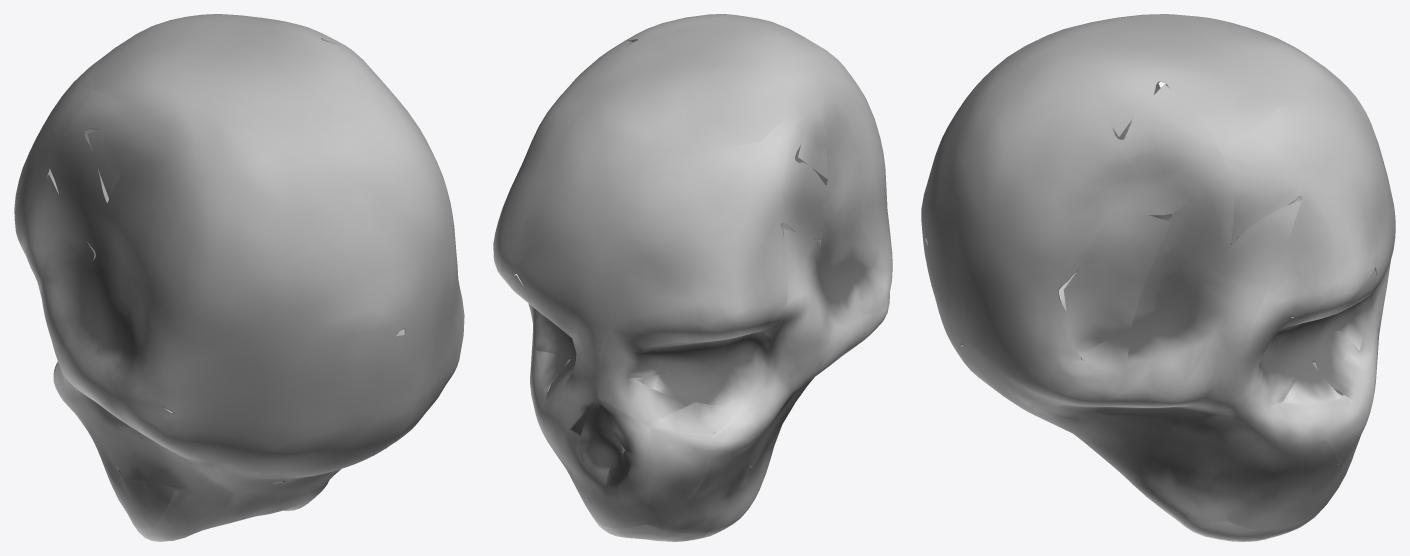
The model's file is skull.fbx.
The picture shows the model from 3 angles, left to right: view 1: azimuth 30°, elevation 25°; view 2: azimuth 150°, elevation 25°; view 3: azimuth 270°, elevation 25°; orthographic projection. The views are drawn at different scales.
Visible parts, largest first — view 1: Cube.002; view 2: Cube.002; view 3: Cube.002.
Part boxes in pixels (x1=…): Cube.002: x1=14, y1=14, x2=464, y2=541; Cube.002: x1=493, y1=14, x2=892, y2=541; Cube.002: x1=921, y1=14, x2=1395, y2=541.
Bounding box in the file's own units: 112 × 160 × 145.
Materials: 1 (1 with a texture image).
